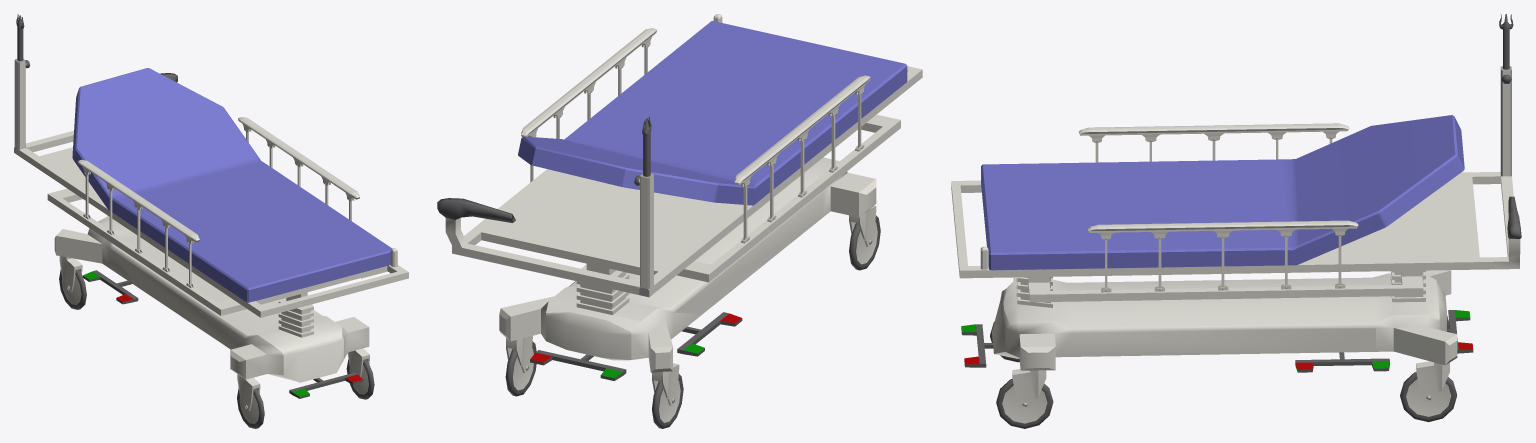
The model's file is MedicalBed_draft.fbx.
3 renders of one model, left to right at view 1: azimuth 30°, elevation 25°; view 2: azimuth 150°, elevation 25°; view 3: azimuth 270°, elevation 25°, orthographic. The views are drawn at different scales.
Parts seen in each view (by area): view 1: Stretcher_1:Mattress, Stretcher_1:Base, Stretcher_1:Bed_Platform1, Stretcher_1:Rail_Top__0, Stretcher_1:Rail_Top__L, Stretcher_1:Wheel_3, Stretcher_1:Wheel_1, Stretcher_1:Wheel_Lock, Stretcher_1:Wheel_Lock3, Stretcher_1:Wheel_0, Stretcher_1:Caster3, Stretcher_1:Caster1 (+1 smaller); view 2: Stretcher_1:Mattress, Stretcher_1:Bed_Platform1, Stretcher_1:Base, Stretcher_1:Rail_Top__L, Stretcher_1:Rail_Top__0, Stretcher_1:Wheel_Lock1, Stretcher_1:Wheel_1, Stretcher_1:Wheel_3, Stretcher_1:Wheel_Lock3, Stretcher_1:Wheel_2, Stretcher_1:Caster3, Stretcher_1:Caster1 (+2 smaller); view 3: Stretcher_1:Mattress, Stretcher_1:Base, Stretcher_1:Bed_Platform1, Stretcher_1:Rail_Top__0, Stretcher_1:Rail_Top__L, Stretcher_1:Wheel_0, Stretcher_1:Wheel_2, Stretcher_1:Caster2, Stretcher_1:Caster0, Stretcher_1:Wheel_Lock2, Stretcher_1:Wheel_Lock.
Part boxes in pixels (<box>): Stretcher_1:Mattress: <box>72,68,391,302</box>; Stretcher_1:Base: <box>54,216,369,382</box>; Stretcher_1:Bed_Platform1: <box>14,59,408,317</box>; Stretcher_1:Rail_Top__0: <box>238,117,359,201</box>; Stretcher_1:Rail_Top__L: <box>77,159,199,244</box>; Stretcher_1:Wheel_3: <box>59,269,86,309</box>; Stretcher_1:Wheel_1: <box>237,388,264,428</box>; Stretcher_1:Wheel_Lock: <box>289,372,363,398</box>; Stretcher_1:Wheel_Lock3: <box>82,270,138,304</box>; Stretcher_1:Wheel_0: <box>346,359,374,399</box>; Stretcher_1:Caster3: <box>59,256,82,291</box>; Stretcher_1:Caster1: <box>237,374,260,410</box>; Stretcher_1:Mattress: <box>518,21,907,205</box>; Stretcher_1:Bed_Platform1: <box>437,14,922,297</box>; Stretcher_1:Base: <box>499,157,876,372</box>; Stretcher_1:Rail_Top__L: <box>734,75,870,187</box>; Stretcher_1:Rail_Top__0: <box>521,28,657,137</box>; Stretcher_1:Wheel_Lock1: <box>530,350,626,380</box>; Stretcher_1:Wheel_1: <box>849,215,880,270</box>; Stretcher_1:Wheel_3: <box>652,374,683,428</box>; Stretcher_1:Wheel_Lock3: <box>677,312,742,356</box>; Stretcher_1:Wheel_2: <box>505,341,536,396</box>; Stretcher_1:Caster3: <box>652,363,679,405</box>; Stretcher_1:Caster1: <box>849,205,876,246</box>; Stretcher_1:Mattress: <box>981,115,1464,270</box>; Stretcher_1:Base: <box>992,270,1457,370</box>; Stretcher_1:Bed_Platform1: <box>951,66,1521,302</box>; Stretcher_1:Rail_Top__0: <box>1088,220,1358,239</box>; Stretcher_1:Rail_Top__L: <box>1078,123,1349,142</box>; Stretcher_1:Wheel_0: <box>996,378,1053,428</box>; Stretcher_1:Wheel_2: <box>1400,372,1457,422</box>; Stretcher_1:Caster2: <box>1416,361,1449,401</box>; Stretcher_1:Caster0: <box>1012,369,1046,407</box>; Stretcher_1:Wheel_Lock2: <box>1295,352,1389,372</box>; Stretcher_1:Wheel_Lock: <box>961,324,993,367</box>.
Bounding box in the file's own units: 1.26 × 1.8 × 2.82.
